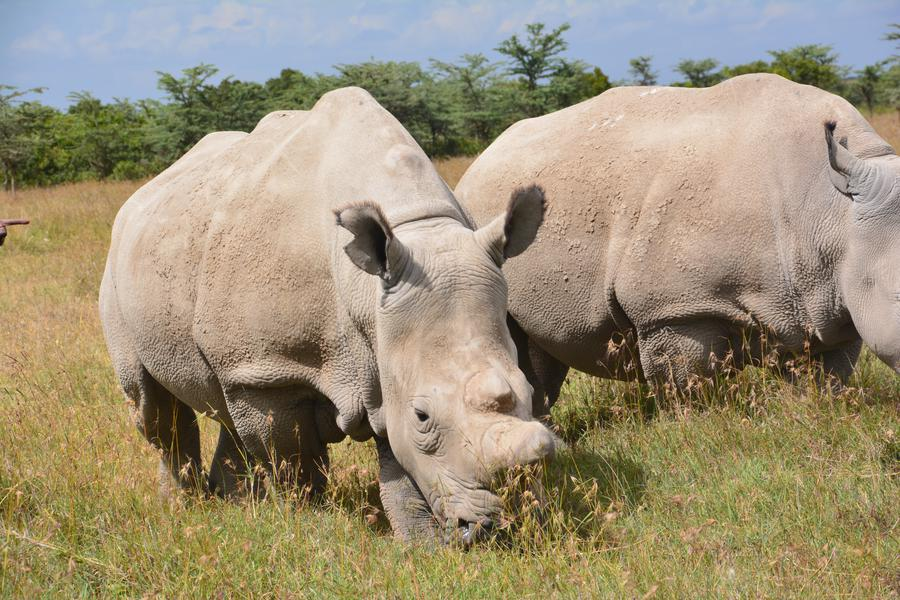rhino: (102, 111, 563, 530), (465, 59, 897, 353)
